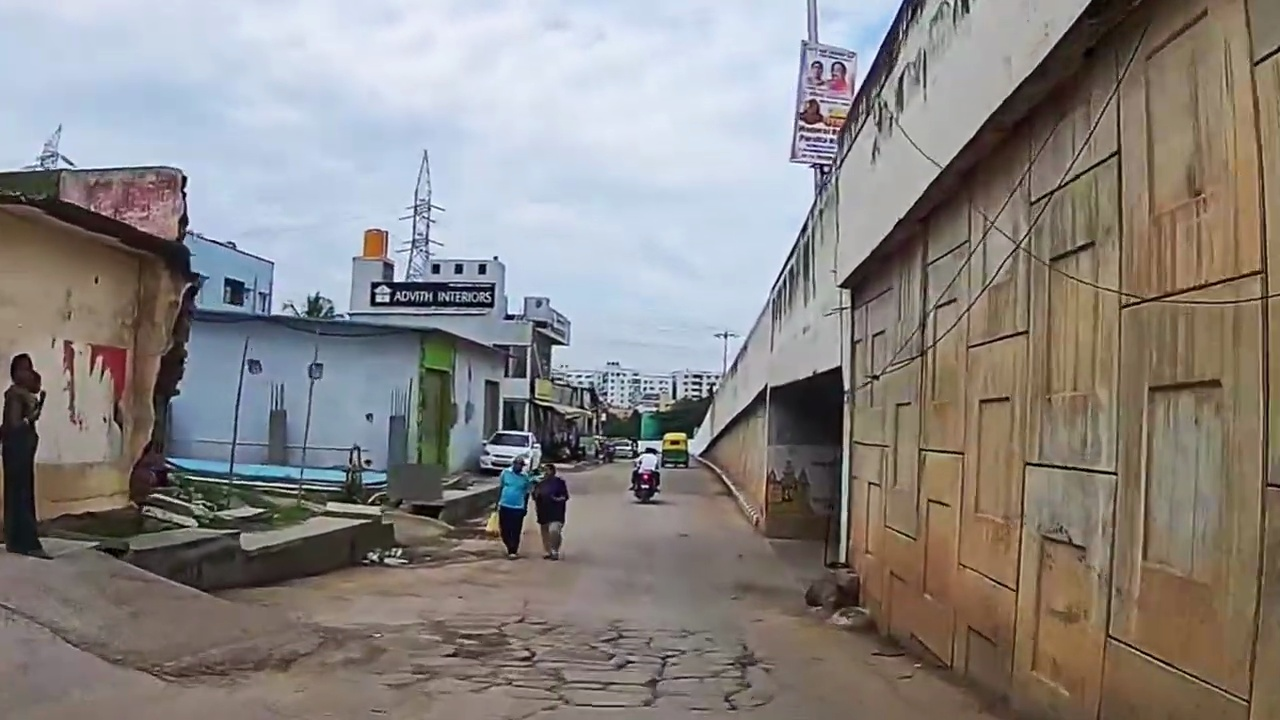garbage: (365, 542, 406, 566)
